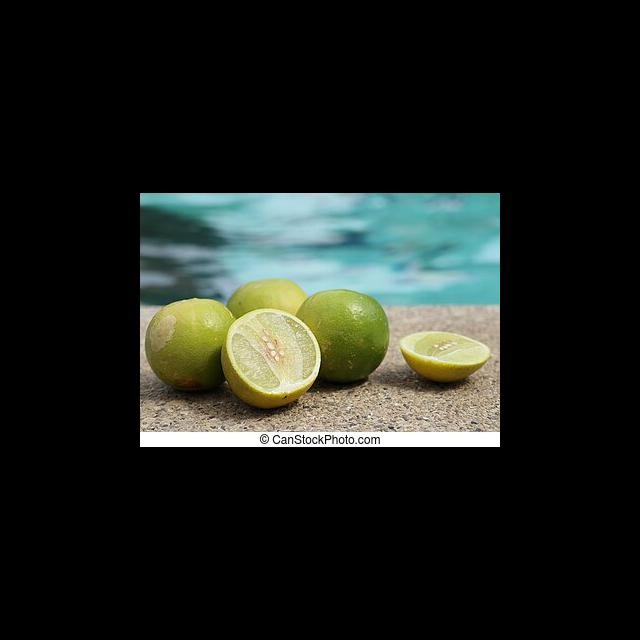lime: (144, 293, 247, 395), (296, 286, 395, 386), (220, 273, 314, 373)
